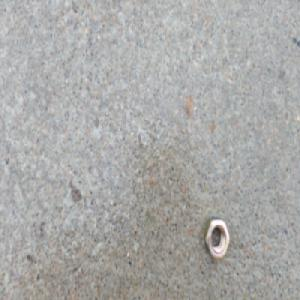Nut: (203, 216, 230, 260)
